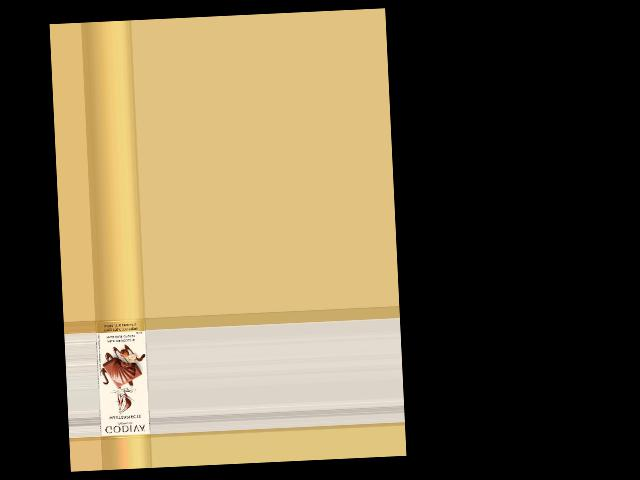chocolate: (96, 318, 151, 439)
